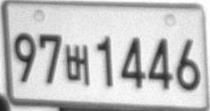1: (94, 35, 119, 86)
4: (120, 36, 146, 89), (148, 38, 173, 89)
6: (175, 38, 200, 91)
7: (38, 33, 62, 84)
9: (13, 32, 36, 82)
버: (65, 44, 90, 85)
